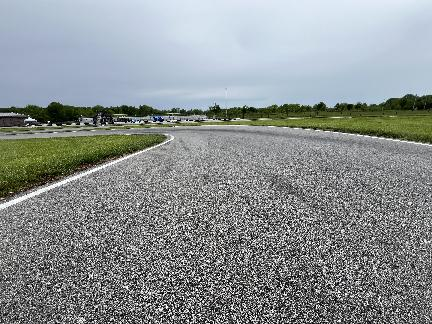Grass: (0, 135, 165, 198), (106, 115, 431, 142), (109, 116, 431, 142), (241, 116, 431, 142), (0, 125, 93, 132)
Lane: (0, 126, 431, 323)
